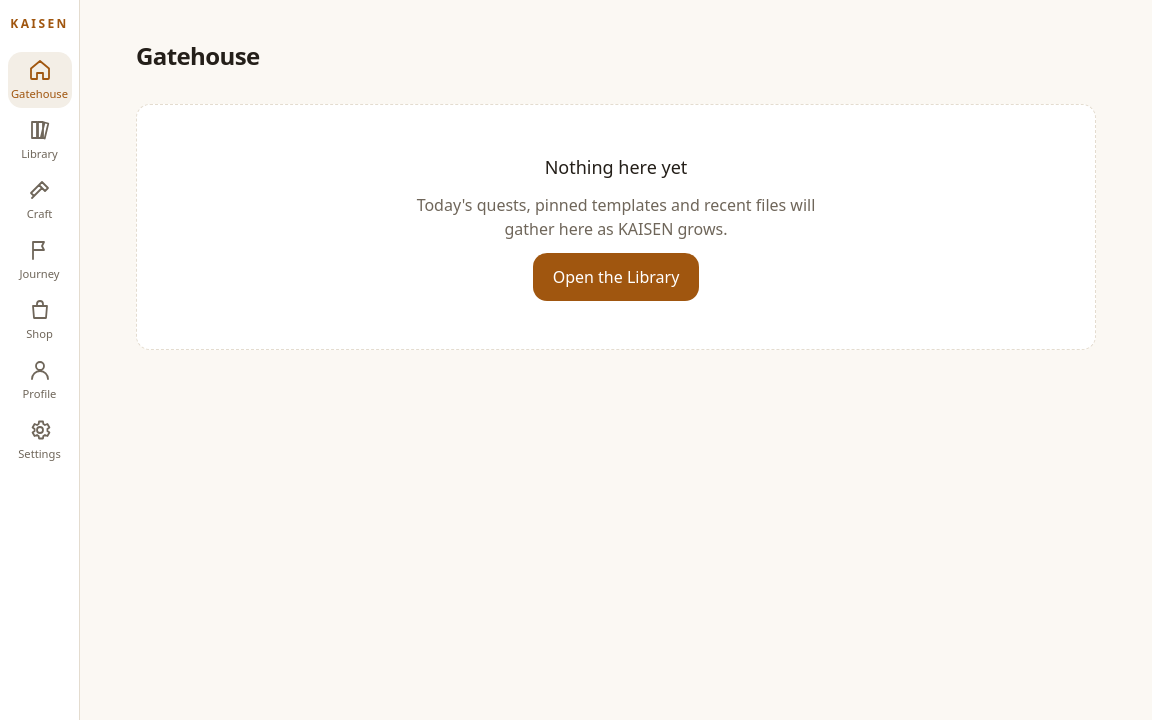
Test: desktop shell › navigates with the rail
Click the link titled "Shop" at (39, 319), box [26, 298, 53, 341]
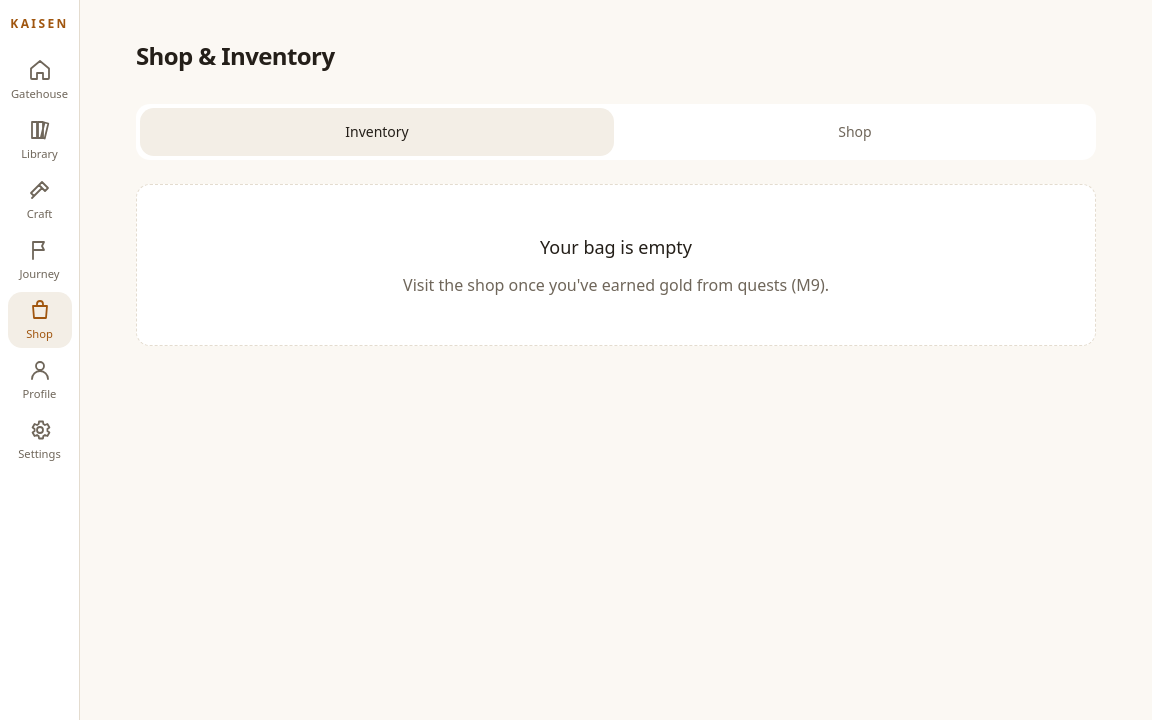
expect the tab "Inventory" is shown: met, box [140, 108, 614, 156]
